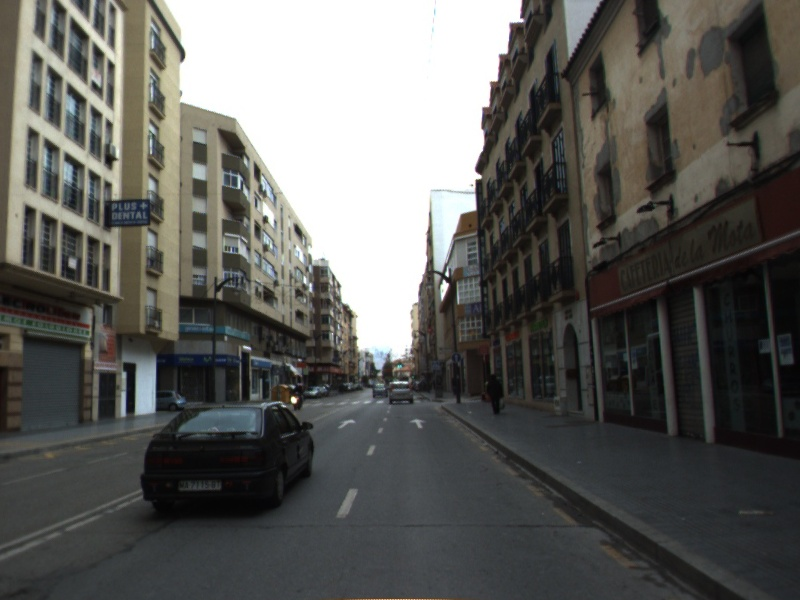STRAIGHT: (407, 417, 429, 430), (336, 417, 358, 430)
